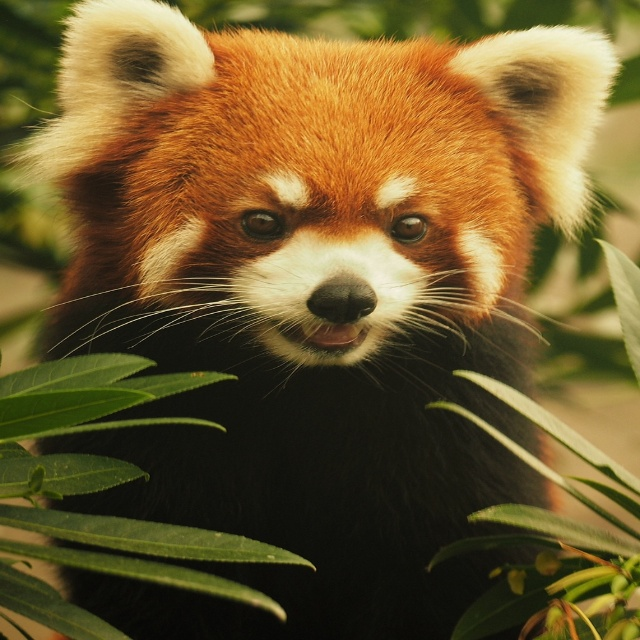Red panda: (0, 0, 628, 640)
